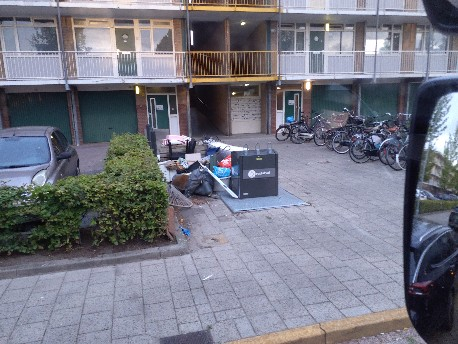Container: (230, 151, 281, 195)
Rest: (200, 137, 229, 170), (178, 168, 217, 192), (163, 144, 197, 170), (173, 132, 201, 151)
Voertuig: (4, 124, 73, 182), (350, 121, 403, 164), (312, 109, 350, 159), (332, 111, 387, 137), (290, 116, 327, 150)
